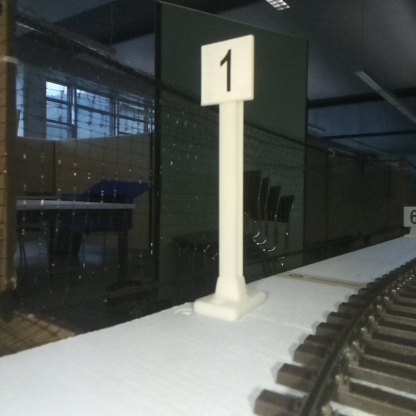white-info-1: (201, 35, 253, 312)
